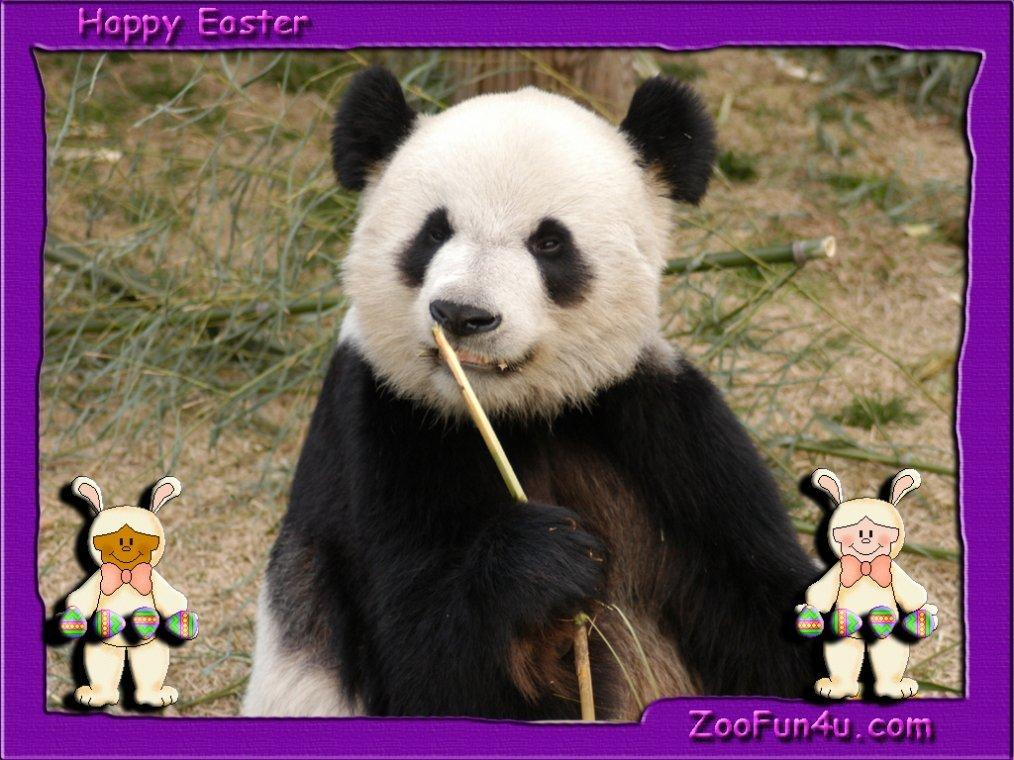panda: (242, 66, 820, 720)
